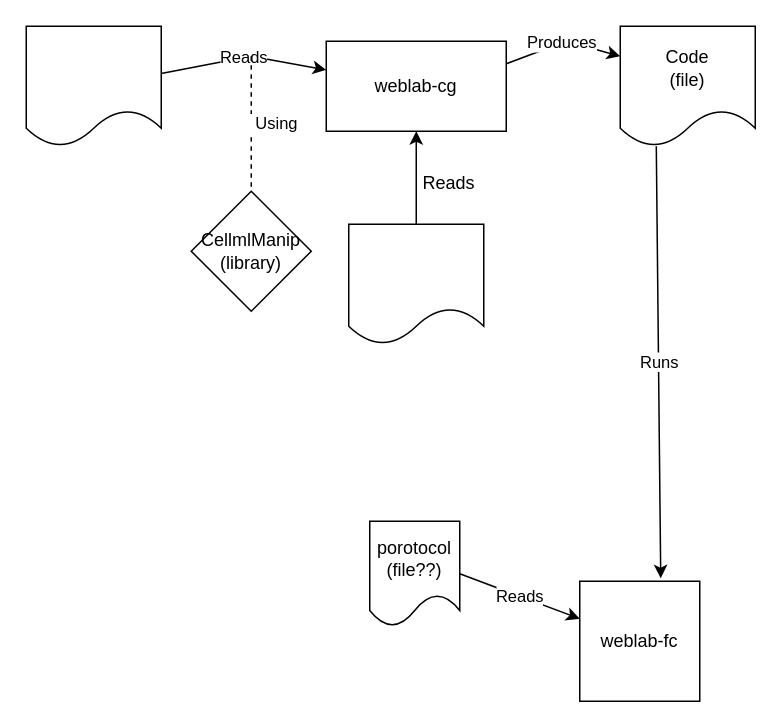
Some shapes in this 782 by 728 pixel diagram are drawn without their labels. Each missing label, with the box of its shape:
CellML 1.0 (file): (25, 25, 161, 146)
Jina2 (template file): (347, 223, 484, 344)
